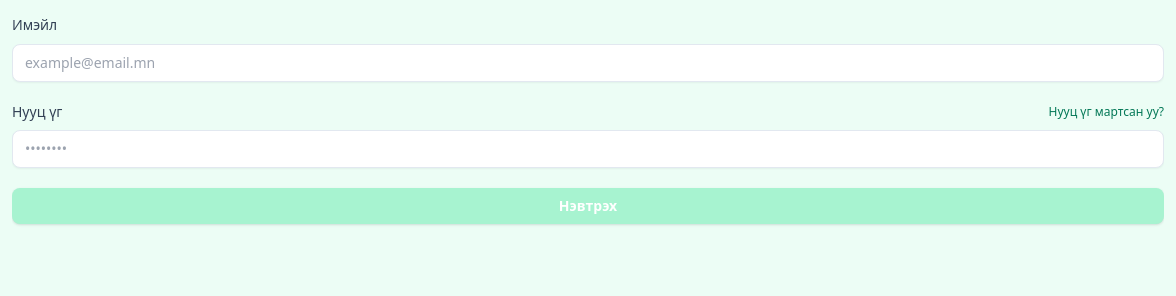
Test: LoginForm › shows server error feedback
The image size is (1176, 296).
Type "user@example.com" into the field labelled "Имэйл" at coordinates (588, 63), box [12,44,1164,82]
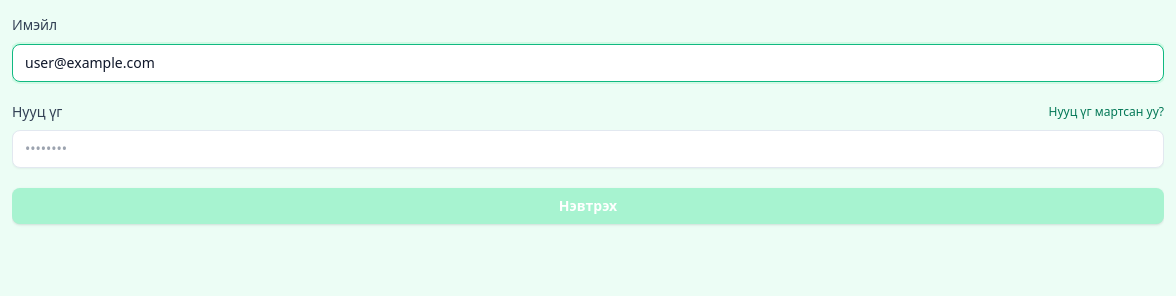
Type "StrongP@ssw0rd" into the password field labelled "Нууц үг" at coordinates (588, 149), box [12,130,1164,168]
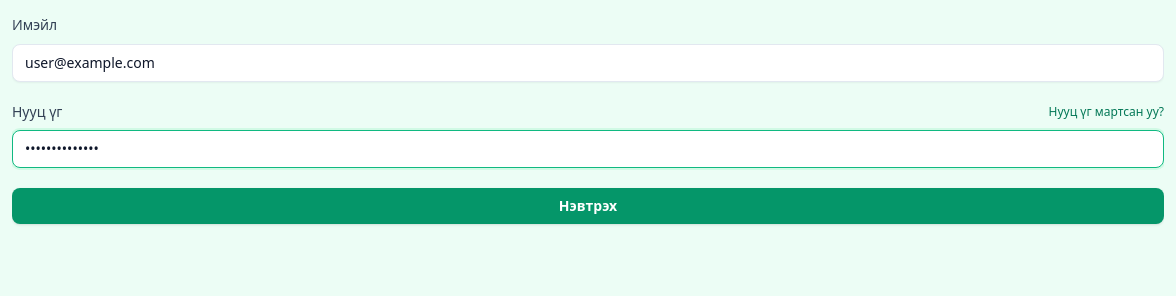
Click the button "Нэвтрэх" at coordinates (588, 206), box [12,188,1164,224]
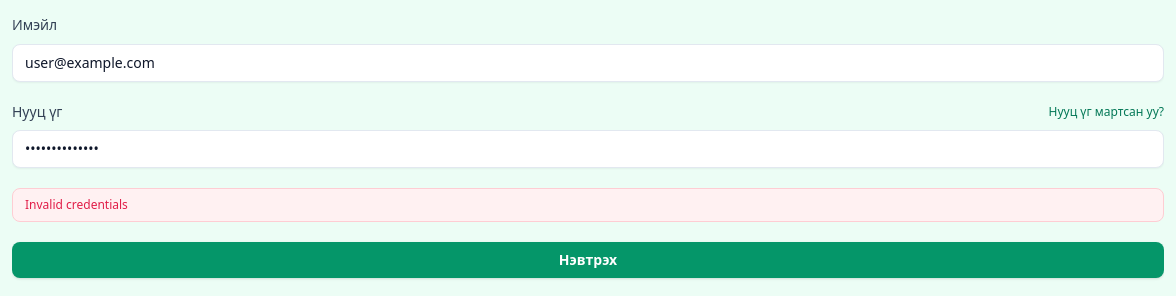
Expected: the text "Invalid credentials" is shown, [12,188,1164,222]
